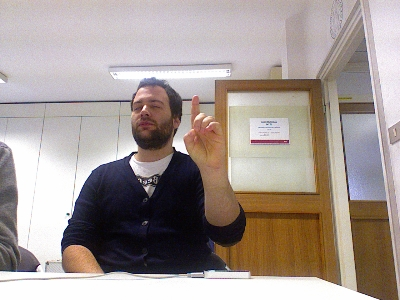食指: (182, 94, 226, 168)
